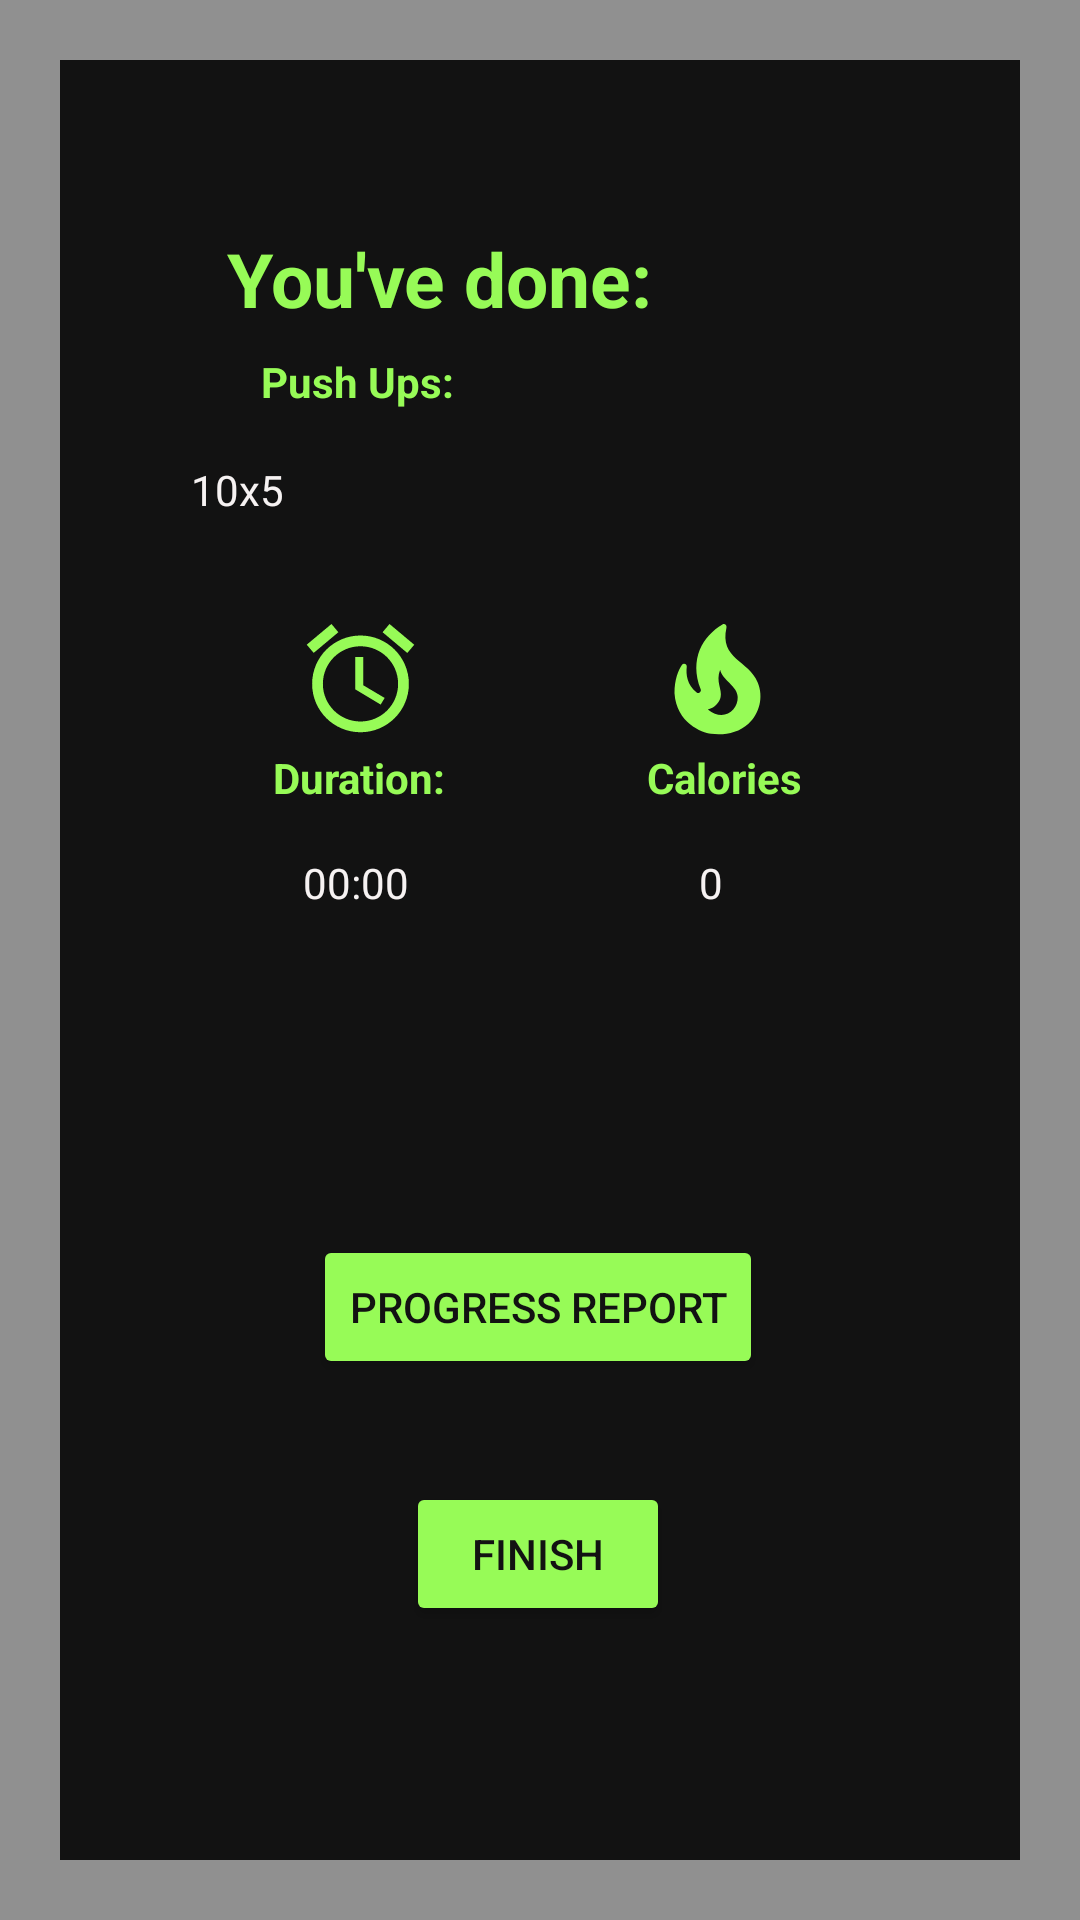

Point at icon controls on the screen. Image size 1080px x 1920px, points as [x,y].
access alarm: [360,678]
local fire department: [717,679]
